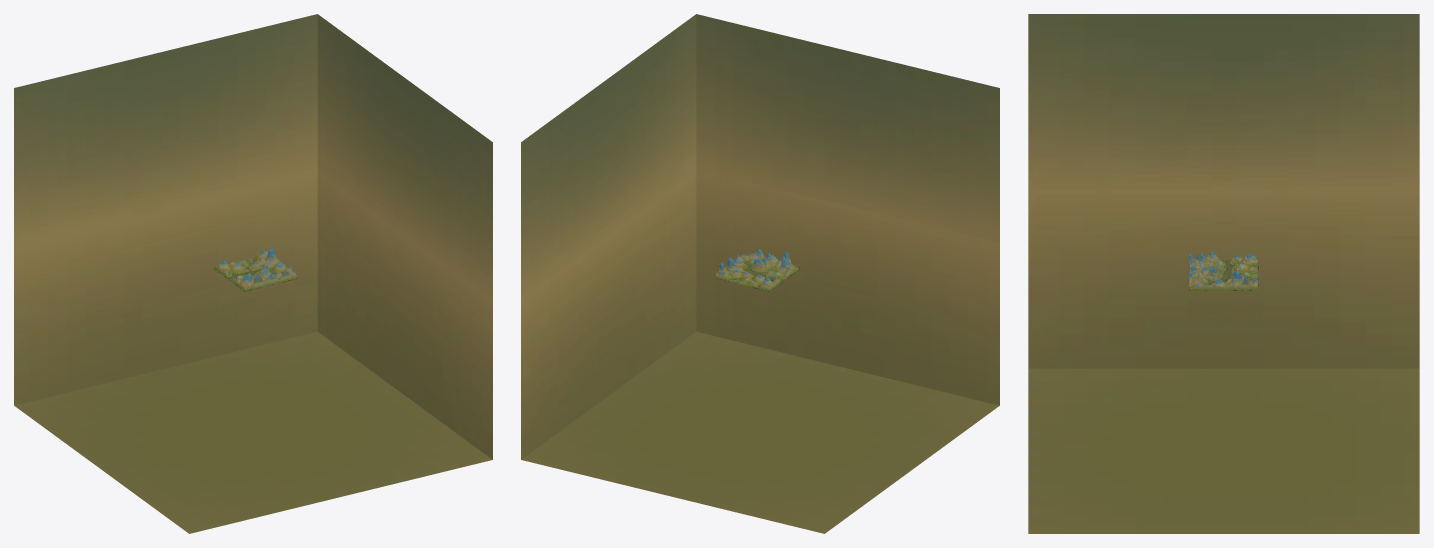
The model's file is land.glb.
The picture shows the model from 3 angles, left to right: view 1: azimuth 30°, elevation 25°; view 2: azimuth 150°, elevation 25°; view 3: azimuth 270°, elevation 25°; orthographic projection. The views are drawn at different scales.
Visible parts, largest first — view 1: MainMeshBounds_SmallObjectsOpaque_0, MainMesh_Material_0; view 2: MainMeshBounds_SmallObjectsOpaque_0, MainMesh_Material_0; view 3: MainMeshBounds_SmallObjectsOpaque_0, MainMesh_Material_0.
Boxes of the visible parts, x1,y1,x2,y2 form: MainMeshBounds_SmallObjectsOpaque_0: (14,14,492,533); MainMesh_Material_0: (215,248,297,290); MainMeshBounds_SmallObjectsOpaque_0: (521,14,999,533); MainMesh_Material_0: (716,249,798,288); MainMeshBounds_SmallObjectsOpaque_0: (1028,14,1419,533); MainMesh_Material_0: (1189,252,1257,288).
Size of the model in its own units: 20.22 by 20.22 by 20.22.
4 materials, 3 textured.
